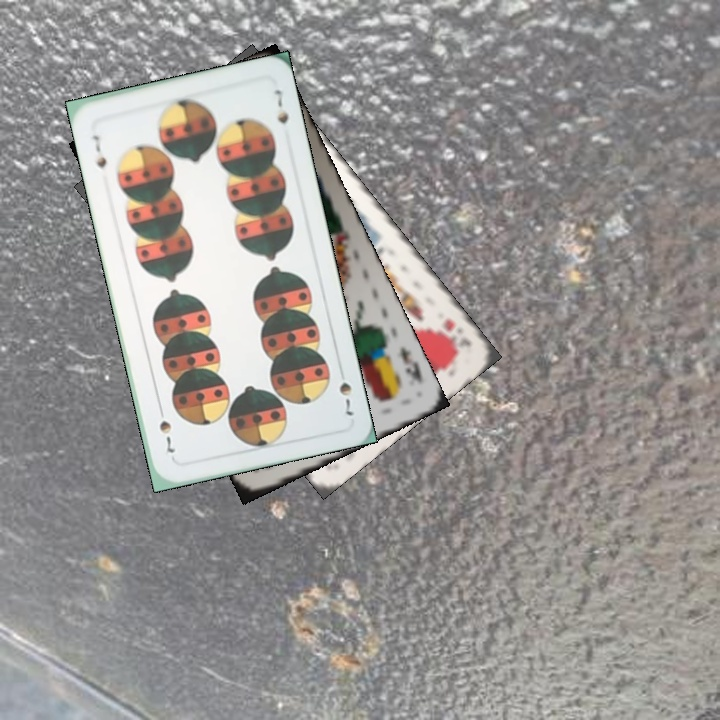EK: (395, 343, 425, 387)
HK: (435, 314, 474, 356)
S7: (335, 362, 356, 419), (88, 131, 109, 172)
